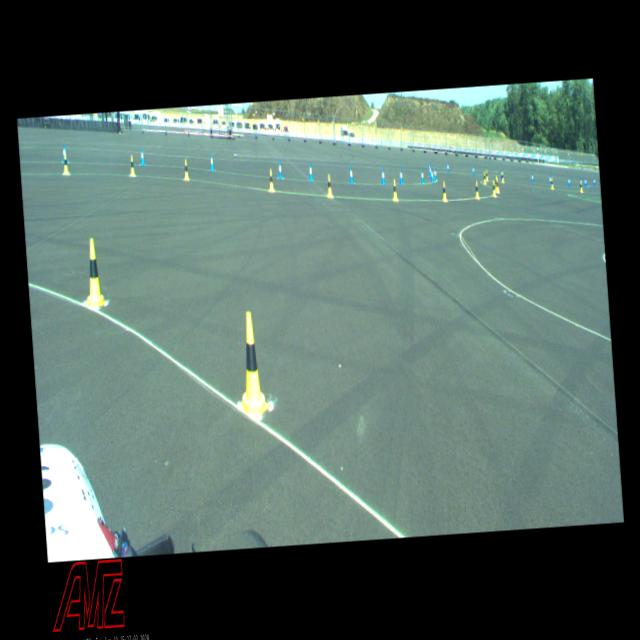blue_cone: (208, 153, 214, 170), (348, 166, 354, 183), (139, 148, 144, 166), (380, 167, 385, 184), (398, 168, 403, 184), (278, 160, 282, 178), (308, 162, 312, 180), (419, 168, 424, 182), (430, 168, 433, 182), (433, 168, 436, 180), (530, 173, 534, 182), (446, 162, 449, 172), (567, 176, 570, 186), (472, 165, 474, 175), (584, 177, 586, 186), (593, 177, 595, 185)
yellow_cone: (232, 310, 270, 419), (81, 237, 105, 310), (61, 151, 70, 174), (128, 154, 135, 177), (391, 178, 398, 201), (268, 168, 274, 191), (326, 174, 332, 196), (182, 160, 188, 180), (441, 180, 447, 200), (474, 180, 479, 198), (490, 180, 496, 195), (494, 177, 499, 193), (482, 170, 486, 183), (484, 167, 488, 180), (501, 171, 504, 182), (550, 178, 553, 188), (580, 182, 582, 191)
